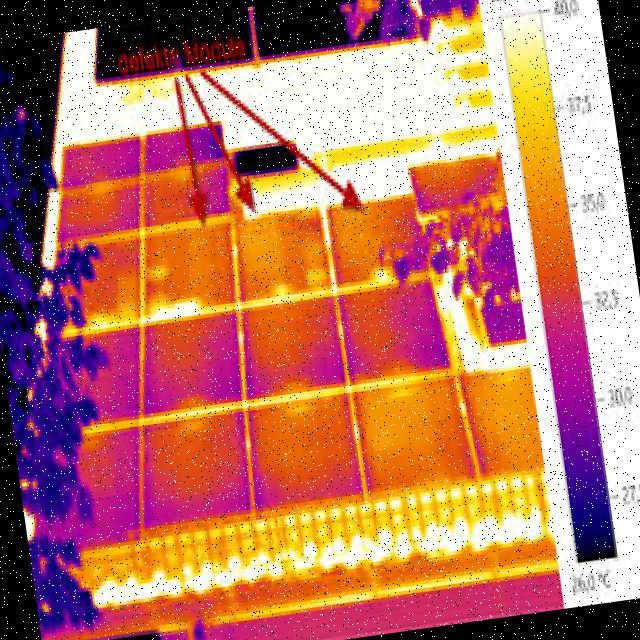Hotspot: (137, 284, 210, 326), (365, 258, 398, 291), (146, 260, 171, 282), (89, 312, 118, 330), (272, 280, 292, 297)
